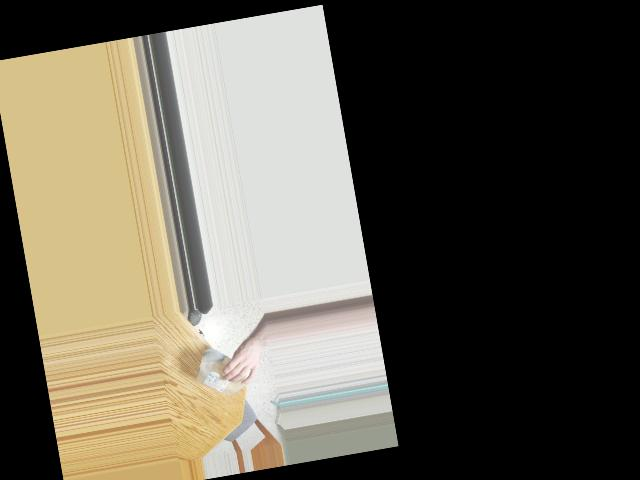cheese: (191, 348, 257, 403)
